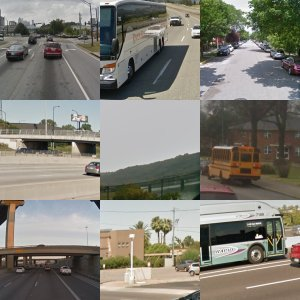公車: (202, 129, 298, 175), (28, 216, 93, 271), (131, 234, 173, 280)
汽車: (266, 160, 298, 193), (228, 269, 262, 287), (137, 38, 151, 49)
紅綠燈: (242, 204, 300, 231)
行人穿越道: (200, 25, 292, 86), (1, 55, 78, 76)
